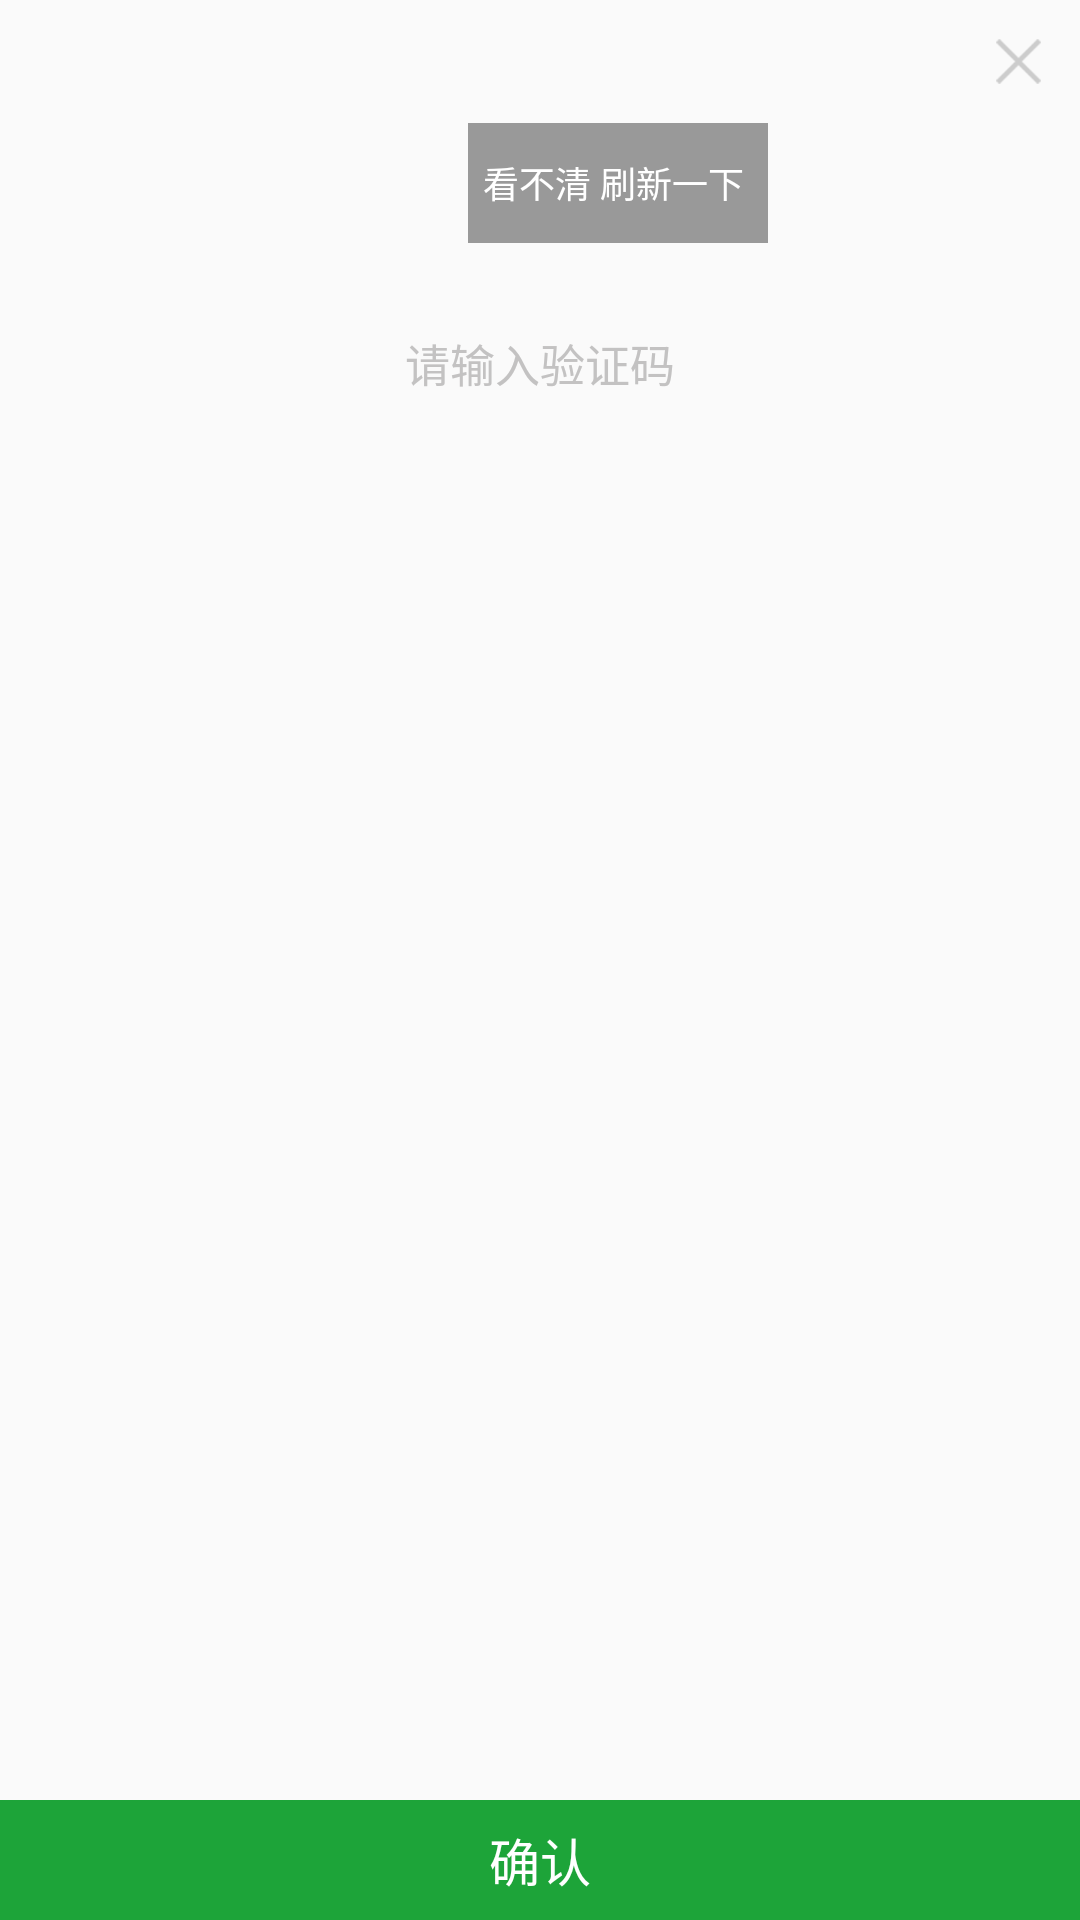

Screen size 1080×1920. Icon name, then its center in pixels as (x=x, y=y):
popupwindow close: (x=1018, y=61)
